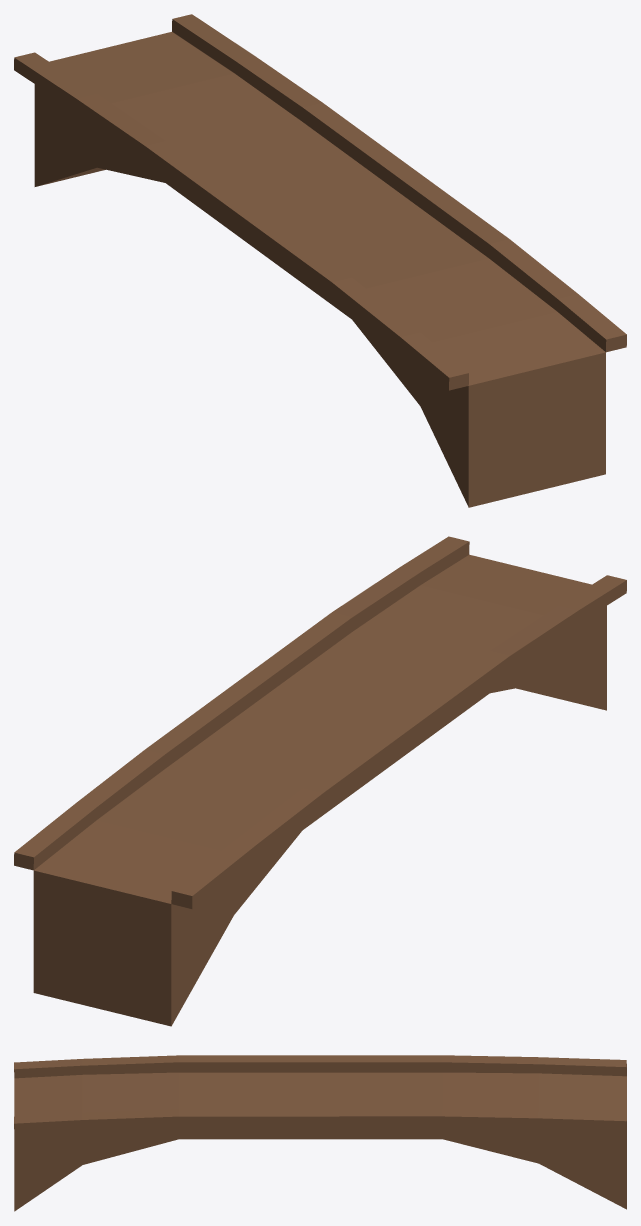
The model's file is bridge test.fbx.
3 renders of one model, top to bottom at view 1: azimuth 30°, elevation 25°; view 2: azimuth 150°, elevation 25°; view 3: azimuth 270°, elevation 25°, orthographic. The views are drawn at different scales.
Visible parts, largest first — view 1: Cube.168, Cube.019; view 2: Cube.019, Cube.168; view 3: Cube.019, Cube.168.
Boxes of the visible parts, x1,y1,x2,y2 form: Cube.168: (238, 171, 626, 507); Cube.019: (14, 14, 415, 250); Cube.019: (14, 681, 416, 1026); Cube.168: (239, 536, 626, 761); Cube.019: (310, 1055, 626, 1209); Cube.168: (14, 1055, 310, 1211).
Bounding box in the file's own units: 3107 × 2406 × 13078.
